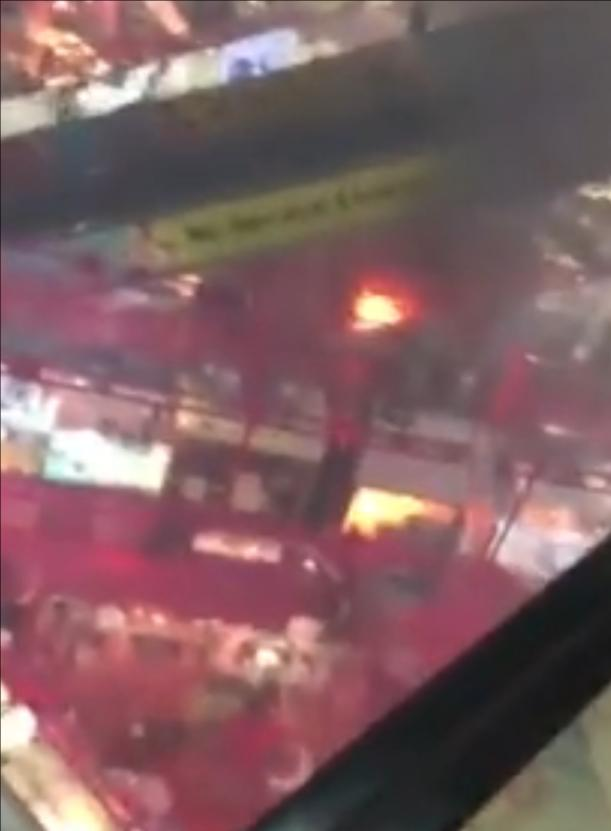fire: (294, 244, 426, 337)
